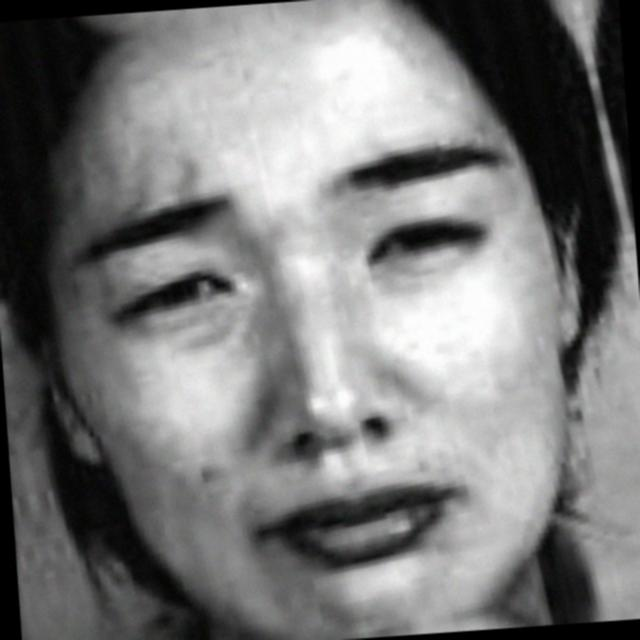sad: (59, 91, 576, 638)
